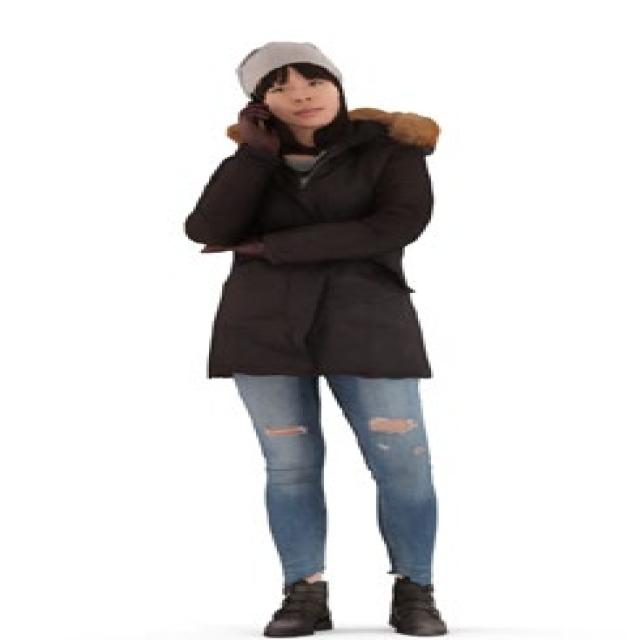standing: (178, 30, 459, 632)
